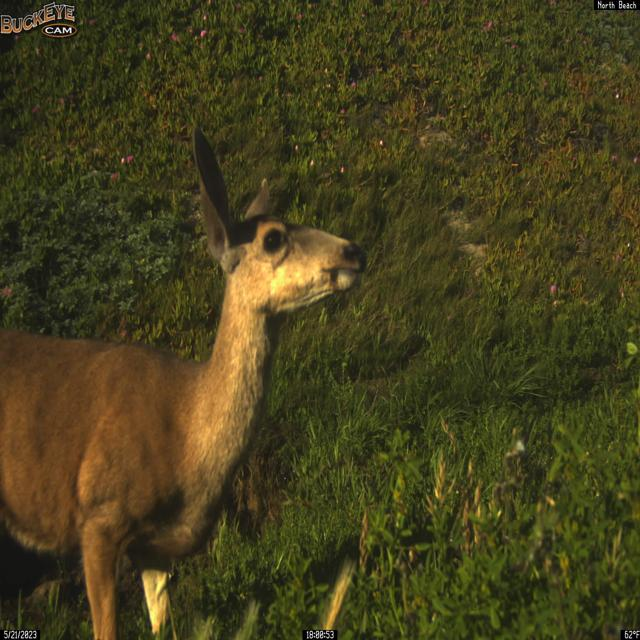deer: (0, 125, 368, 640)
